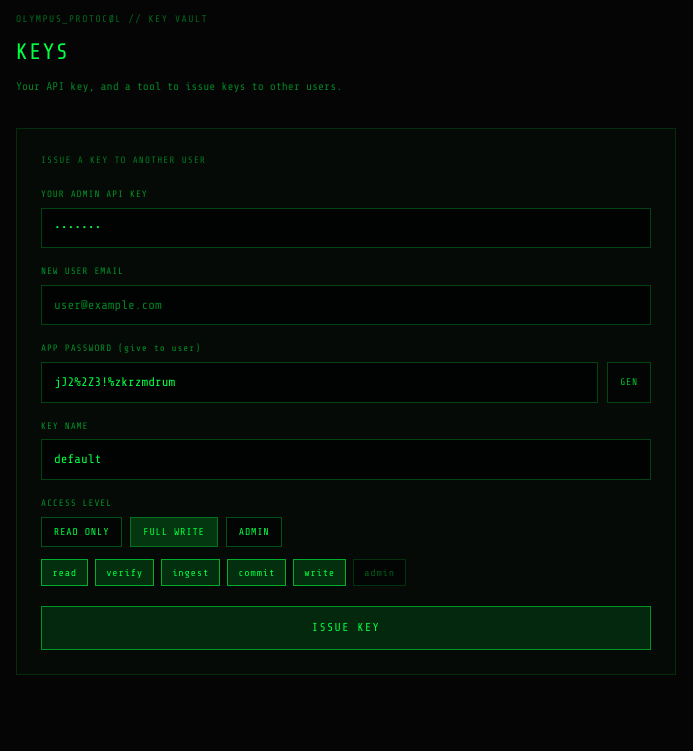
Test case: <AdminPage> › rejects passwords shorter than 12 characters
Type "u@x.com" into the field with placeholder "user@example.com" at (346, 305), box [41, 285, 651, 325]
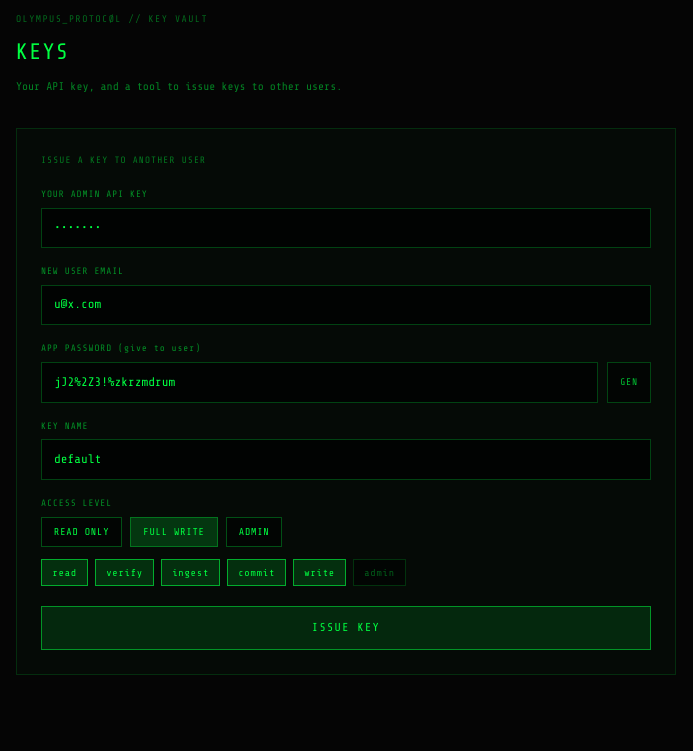
Replace the text in the field below "APP PASSWORD (give to user)" with "short" at (319, 382), box [41, 362, 598, 403]
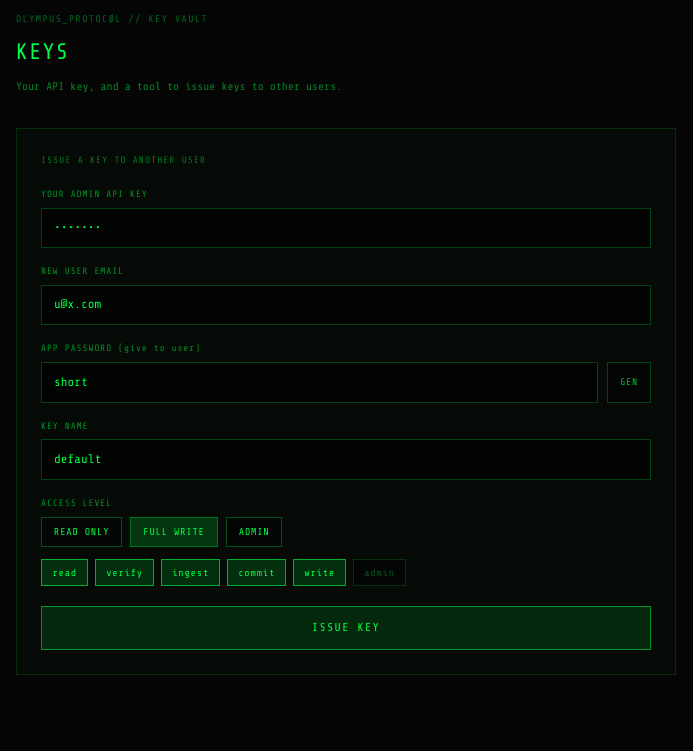
Click the button "ISSUE KEY" at (346, 628), box [41, 606, 651, 650]
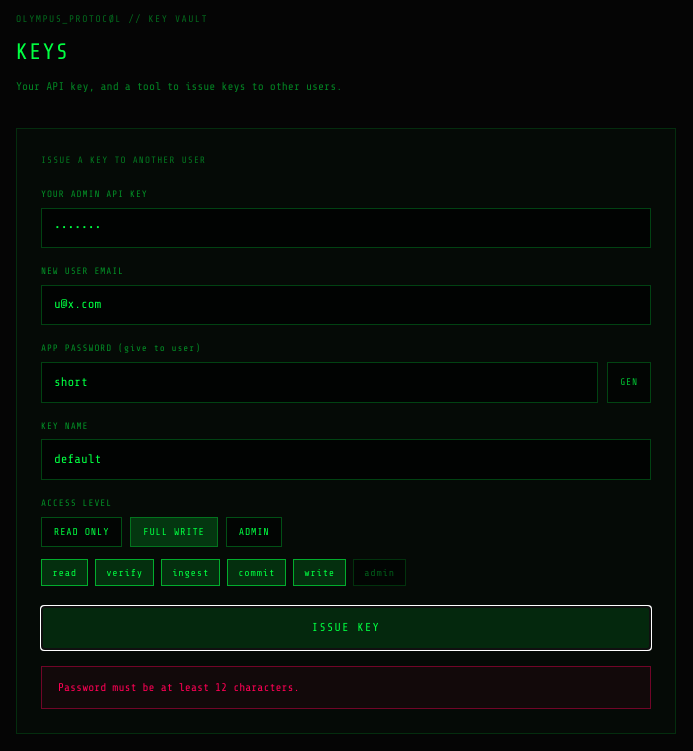
expect the text "Password must be at least 12 characters." is shown: met, box [41, 666, 651, 709]
